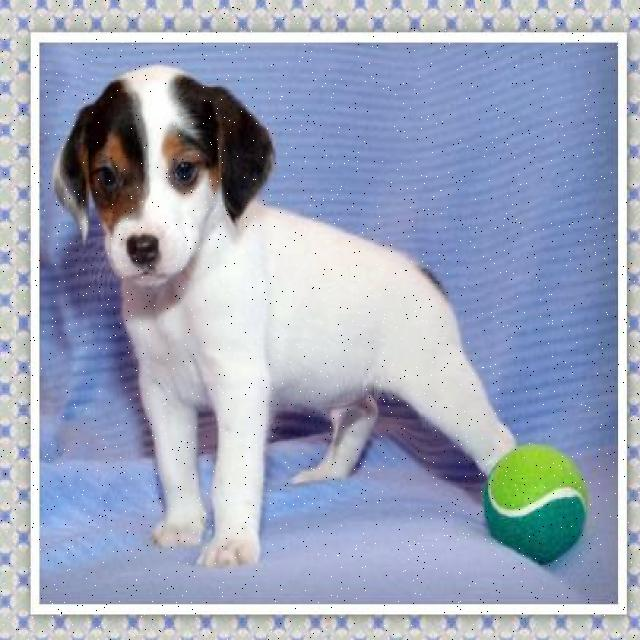Dog: (48, 57, 284, 310)
